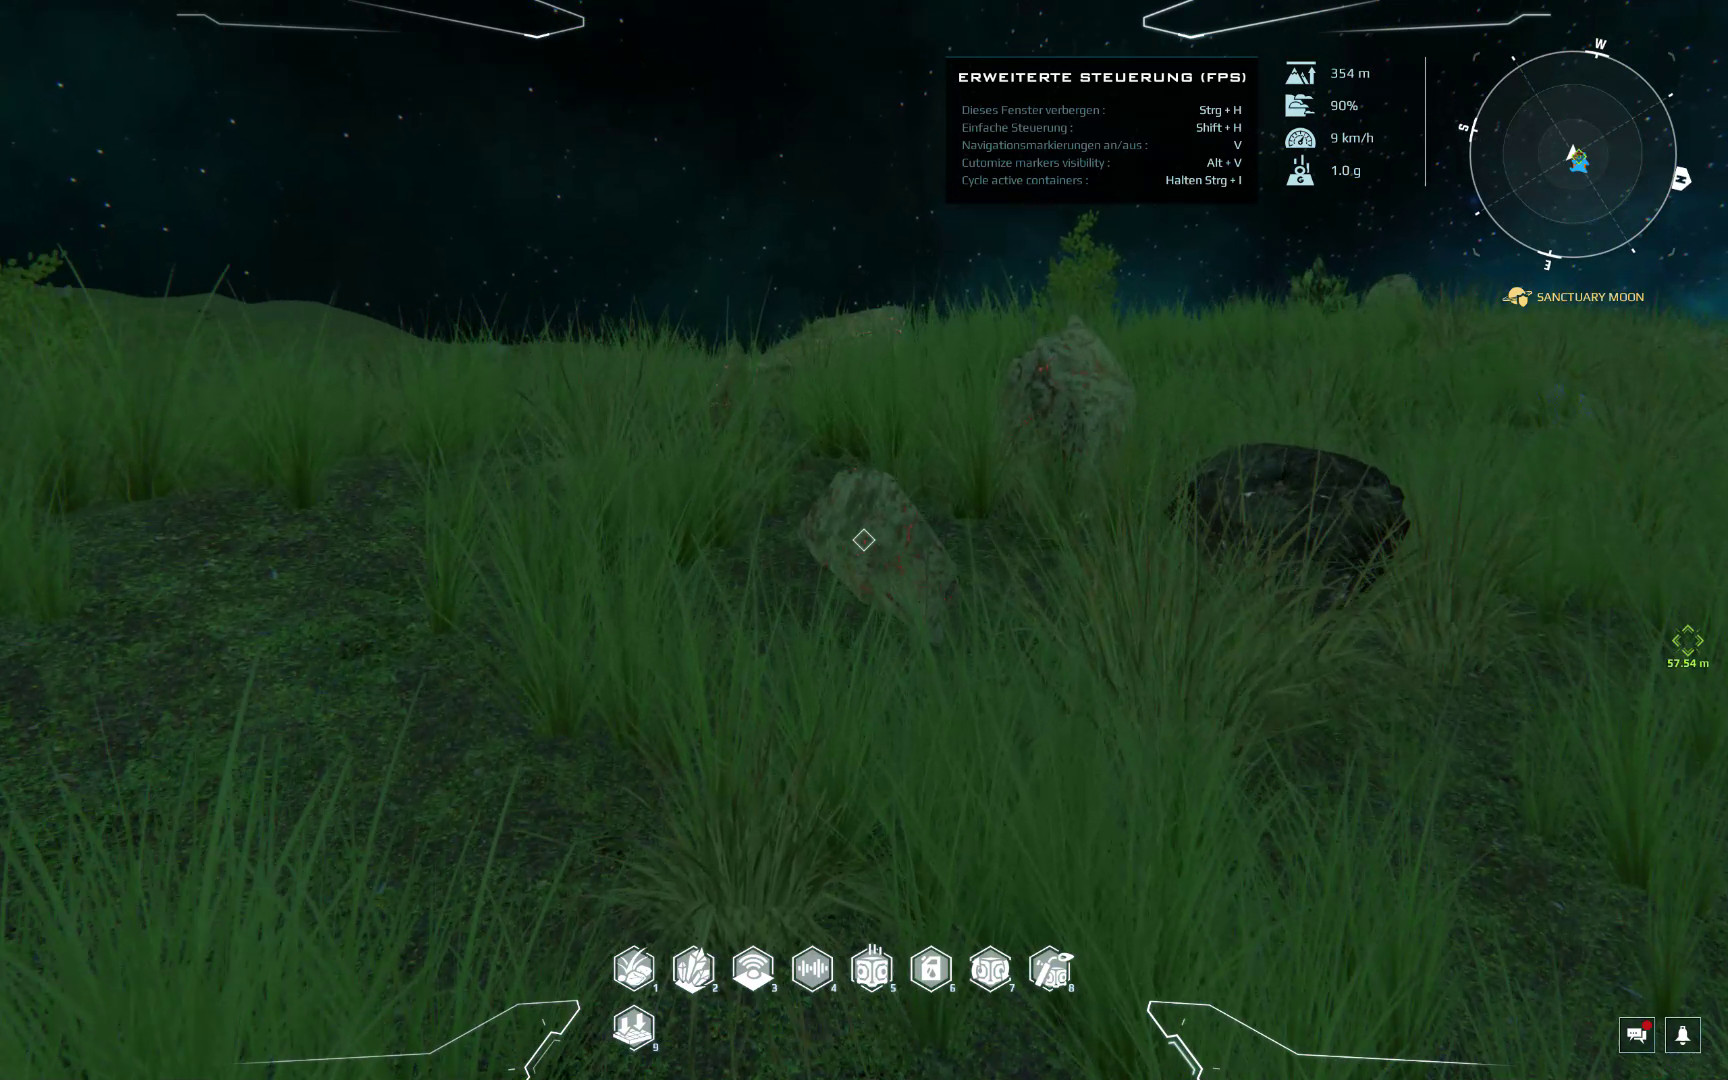Ore: (1166, 440, 1410, 606), (794, 467, 960, 640), (1004, 317, 1135, 526), (745, 301, 913, 379)
